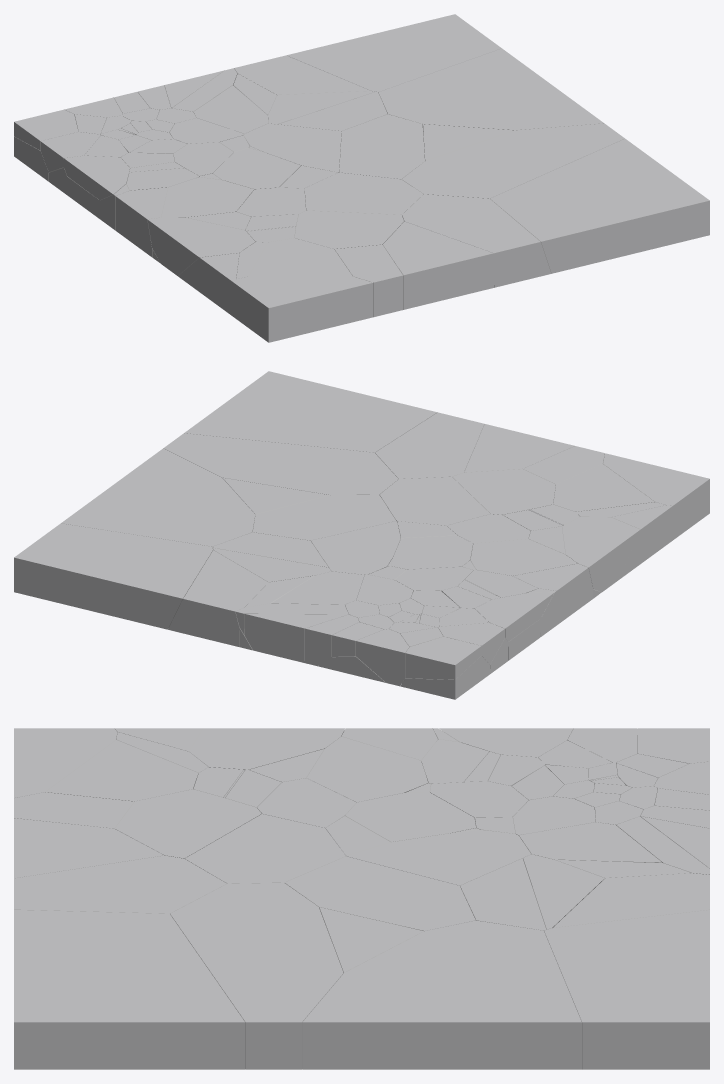
File: Ceiling01_frac.fbx
3 renders of one model, top to bottom at view 1: azimuth 30°, elevation 25°; view 2: azimuth 150°, elevation 25°; view 3: azimuth 270°, elevation 25°, orthographic. The views are drawn at different scales.
Visible parts, largest first — view 1: Ceiling01_cell.080, Ceiling01_cell.078, Ceiling01_cell.081, Ceiling01_cell.082, Ceiling01_cell.039, Ceiling01_cell.036, Ceiling01_cell.041, Ceiling01_cell.079, Ceiling01_cell.038, Ceiling01_cell.084, Ceiling01_cell.073, Ceiling01_cell.075 (+34 smaller); view 2: Ceiling01_cell.082, Ceiling01_cell.080, Ceiling01_cell.078, Ceiling01_cell.081, Ceiling01_cell.042, Ceiling01_cell.036, Ceiling01_cell.079, Ceiling01_cell.039, Ceiling01_cell.038, Ceiling01_cell.084, Ceiling01_cell.073, Ceiling01_cell.075 (+36 smaller); view 3: Ceiling01_cell.078, Ceiling01_cell.080, Ceiling01_cell.082, Ceiling01_cell.081, Ceiling01_cell.036, Ceiling01_cell.079, Ceiling01_cell.038, Ceiling01_cell.073, Ceiling01_cell.075, Ceiling01_cell.041, Ceiling01_cell.042, Ceiling01_cell.074 (+39 smaller).
Part boxes in pixels (box(x1,y1,x2,y2)): Ceiling01_cell.080: box(490, 138, 709, 273); Ceiling01_cell.078: box(378, 48, 603, 130); Ceiling01_cell.081: box(401, 123, 624, 198); Ceiling01_cell.082: box(287, 14, 501, 92); Ceiling01_cell.039: box(232, 276, 373, 342); Ceiling01_cell.036: box(402, 194, 551, 287); Ceiling01_cell.041: box(383, 221, 493, 309); Ceiling01_cell.079: box(339, 114, 424, 179); Ceiling01_cell.038: box(304, 172, 423, 214); Ceiling01_cell.084: box(147, 217, 255, 275); Ceiling01_cell.073: box(294, 210, 403, 248); Ceiling01_cell.075: box(244, 123, 341, 172); Ceiling01_cell.082: box(14, 523, 212, 629); Ceiling01_cell.080: box(184, 371, 437, 452); Ceiling01_cell.078: box(61, 448, 255, 546); Ceiling01_cell.081: box(163, 433, 398, 494); Ceiling01_cell.042: box(168, 550, 268, 646); Ceiling01_cell.036: box(375, 412, 484, 478); Ceiling01_cell.079: box(253, 494, 396, 540); Ceiling01_cell.039: box(603, 453, 709, 539); Ceiling01_cell.038: box(379, 476, 490, 525); Ceiling01_cell.084: box(562, 517, 640, 591); Ceiling01_cell.073: box(452, 469, 555, 514); Ceiling01_cell.075: box(311, 521, 400, 574); Ceiling01_cell.078: box(302, 920, 581, 1069); Ceiling01_cell.080: box(14, 910, 245, 1069); Ceiling01_cell.082: box(544, 910, 709, 1069); Ceiling01_cell.081: box(170, 882, 343, 1069); Ceiling01_cell.036: box(14, 855, 226, 913); Ceiling01_cell.079: box(285, 856, 475, 931); Ceiling01_cell.038: box(185, 814, 345, 883); Ceiling01_cell.073: box(114, 789, 261, 858); Ceiling01_cell.075: box(346, 830, 530, 885); Ceiling01_cell.041: box(14, 818, 164, 878); Ceiling01_cell.042: box(553, 873, 709, 927); Ceiling01_cell.074: box(45, 740, 198, 801).
Size of the model in its own units: 400 by 34.5 by 400.
